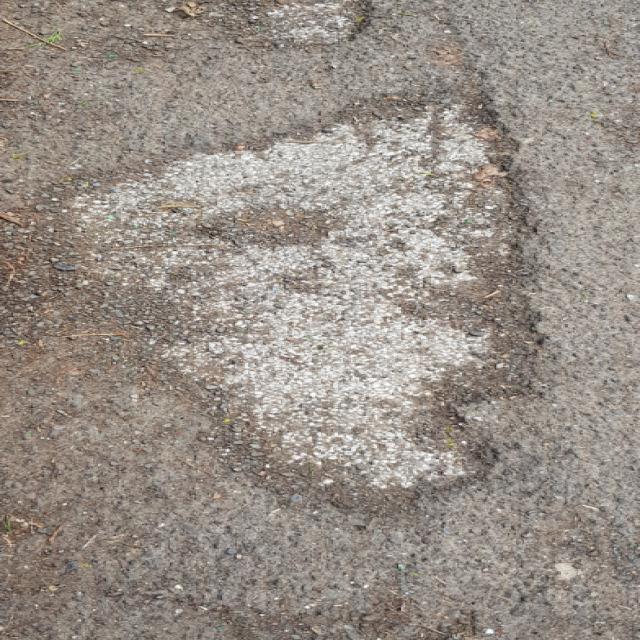Pothole: (39, 74, 558, 520), (220, 1, 379, 51)
